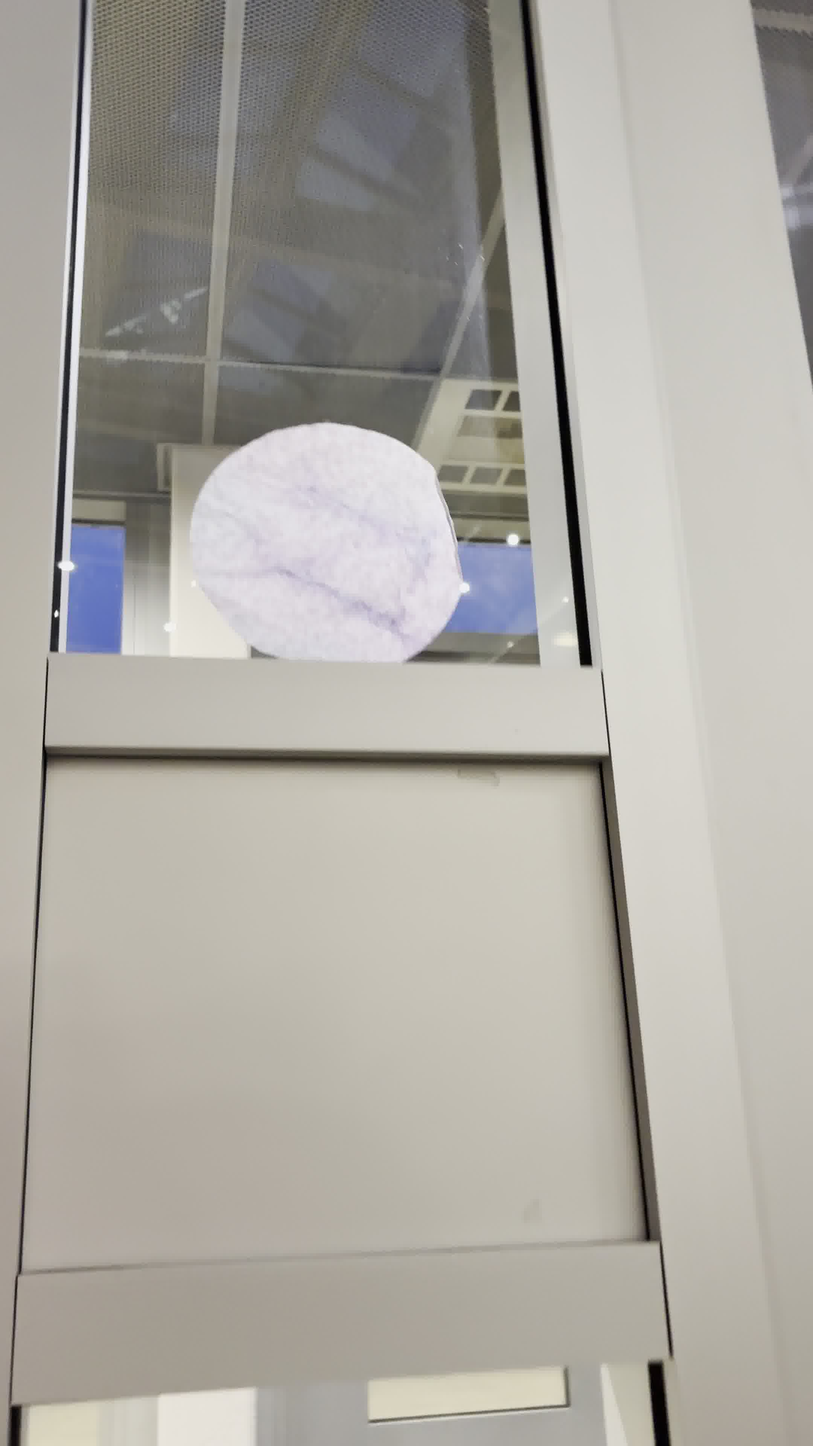Target: (186, 424, 463, 669)
